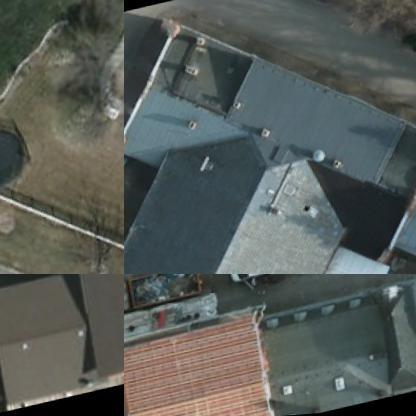van: (231, 274, 289, 286)
